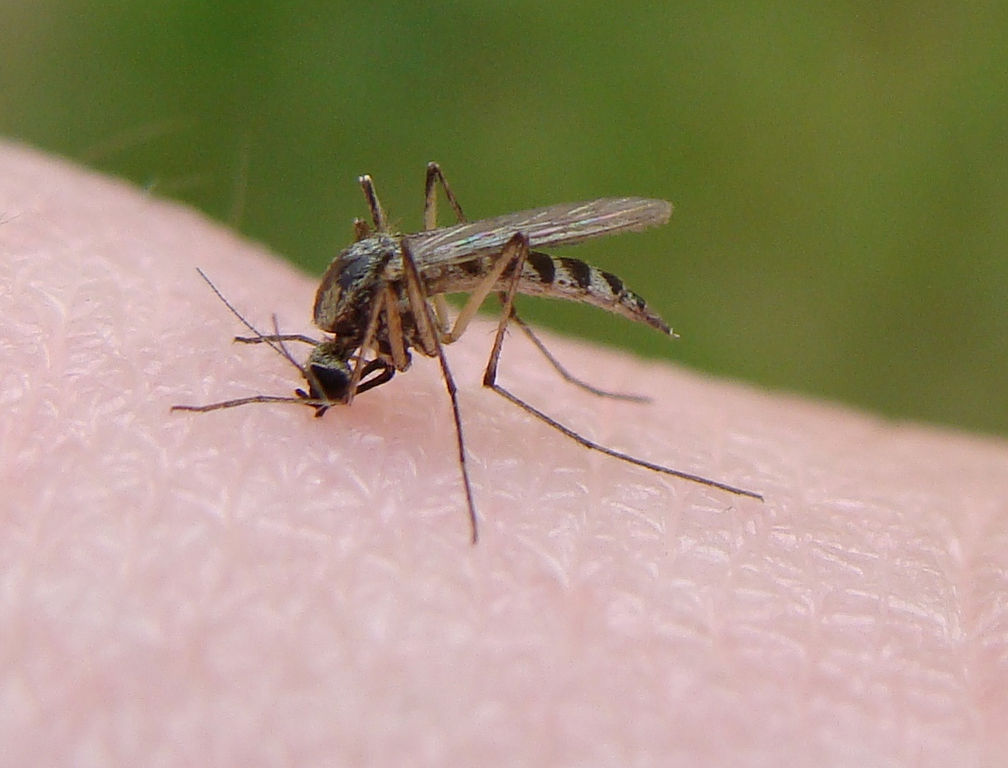mosquito: (154, 139, 775, 539)
